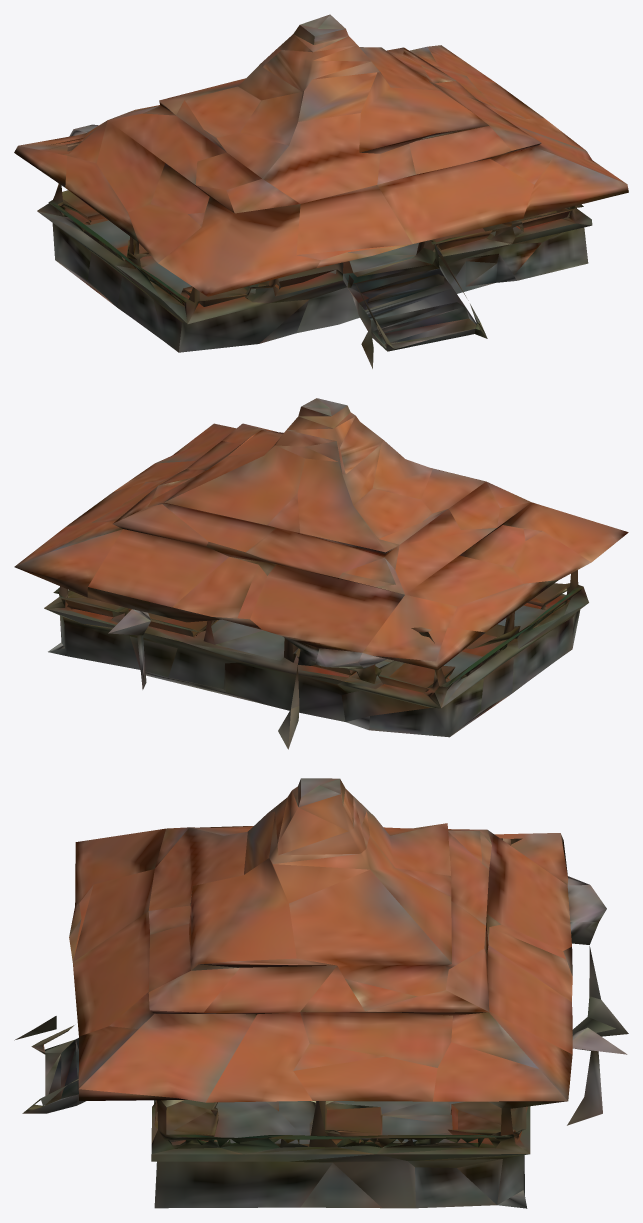
The model's file is rumah_terbuka_bhagawan_lod2.glb.
The picture shows the model from 3 angles, top to bottom: view 1: azimuth 30°, elevation 25°; view 2: azimuth 150°, elevation 25°; view 3: azimuth 270°, elevation 25°; orthographic projection. The views are drawn at different scales.
Visible parts, largest first — view 1: tripo_node_528df3ae-4316-4d02-8790-bd947acc1be7; view 2: tripo_node_528df3ae-4316-4d02-8790-bd947acc1be7; view 3: tripo_node_528df3ae-4316-4d02-8790-bd947acc1be7.
Part boxes in pixels (x1,y1,x2,y2): tripo_node_528df3ae-4316-4d02-8790-bd947acc1be7: [14, 14, 628, 368]; tripo_node_528df3ae-4316-4d02-8790-bd947acc1be7: [14, 398, 628, 749]; tripo_node_528df3ae-4316-4d02-8790-bd947acc1be7: [14, 778, 628, 1208].
Size of the model in its own units: 0.9985 by 0.5254 by 0.9683.
1 material, 1 textured.
